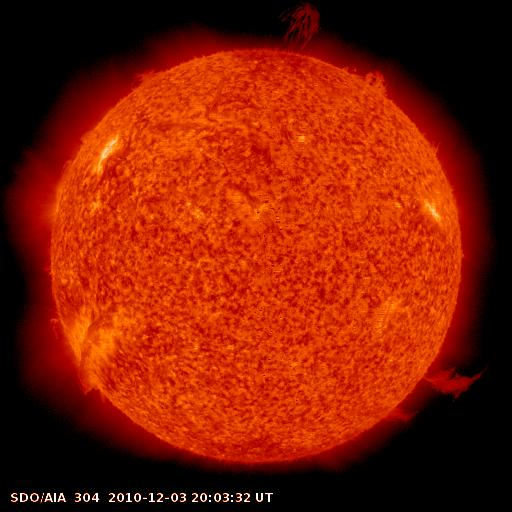prominence: (404, 351, 492, 402), (257, 1, 343, 50), (333, 52, 397, 106), (70, 361, 117, 409), (368, 396, 423, 435), (37, 295, 72, 352), (43, 154, 78, 207), (126, 61, 173, 99)
